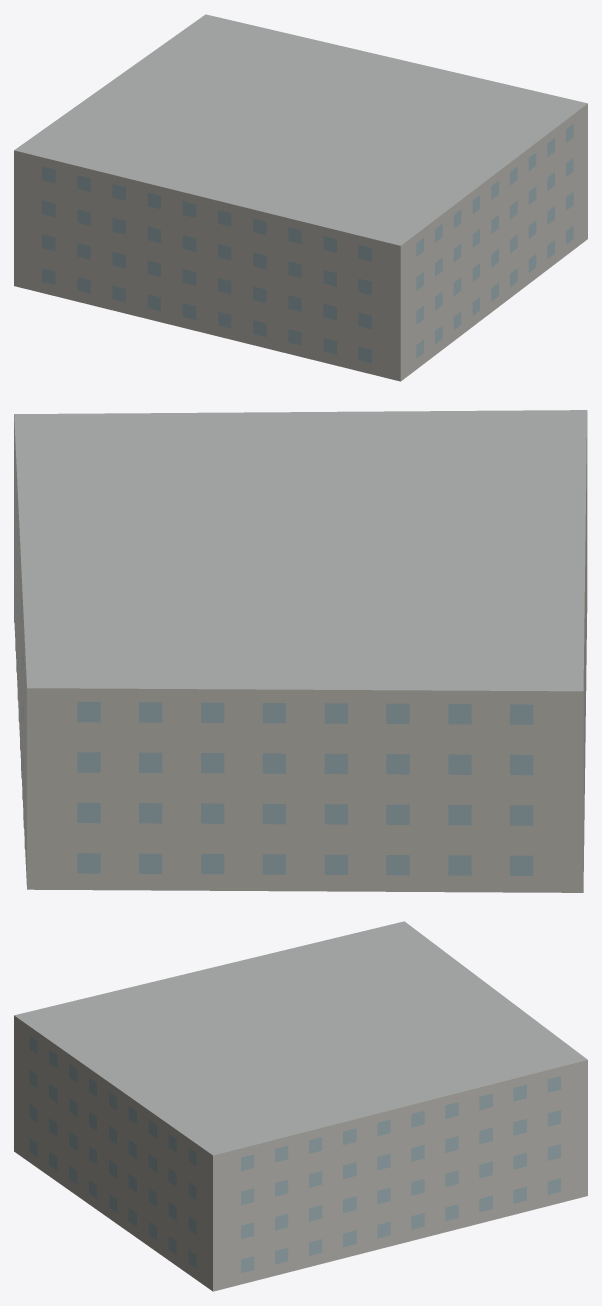
3 renders of one model, top to bottom at view 1: azimuth 30°, elevation 25°; view 2: azimuth 150°, elevation 25°; view 3: azimuth 270°, elevation 25°, orthographic. The views are drawn at different scales.
Visible parts, largest first — view 1: context-5; view 2: context-5; view 3: context-5.
Part boxes in pixels (x1,y1,x2,y2): context-5: (14, 14, 587, 381); context-5: (14, 410, 587, 892); context-5: (14, 921, 587, 1291).
Size of the model in its own units: 45.77 by 12.4 by 47.39.
